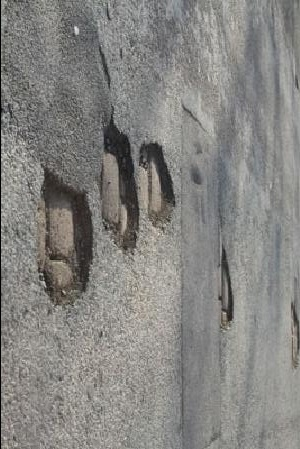pothole: (35, 165, 95, 307), (99, 117, 141, 255), (140, 139, 178, 230), (217, 243, 236, 333), (288, 298, 299, 373)
